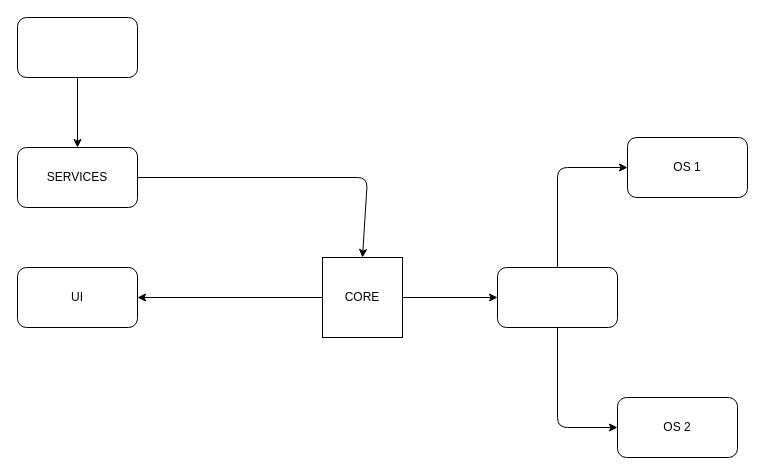
Some shapes in this 765 by 475 pixel diagram are drawn without their labels. Each missing label, with the box of its shape:
GRUB: (16, 16, 138, 78)
KVM: (496, 266, 618, 328)
